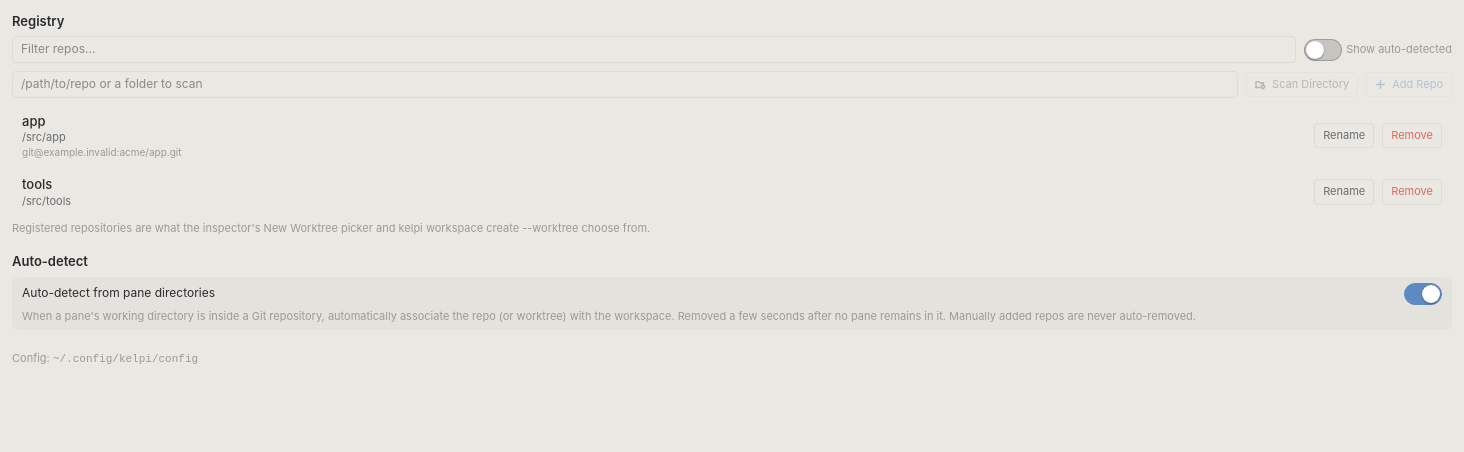
Scenario: the two empty states (§SET-057) › says "No matching repositories" — without the hint — when the filter excluded them
This screenshot has width=1464, height=452.
In the field with test id "repo-filter": (654, 50) [12,36,1296,63], type "zzz"
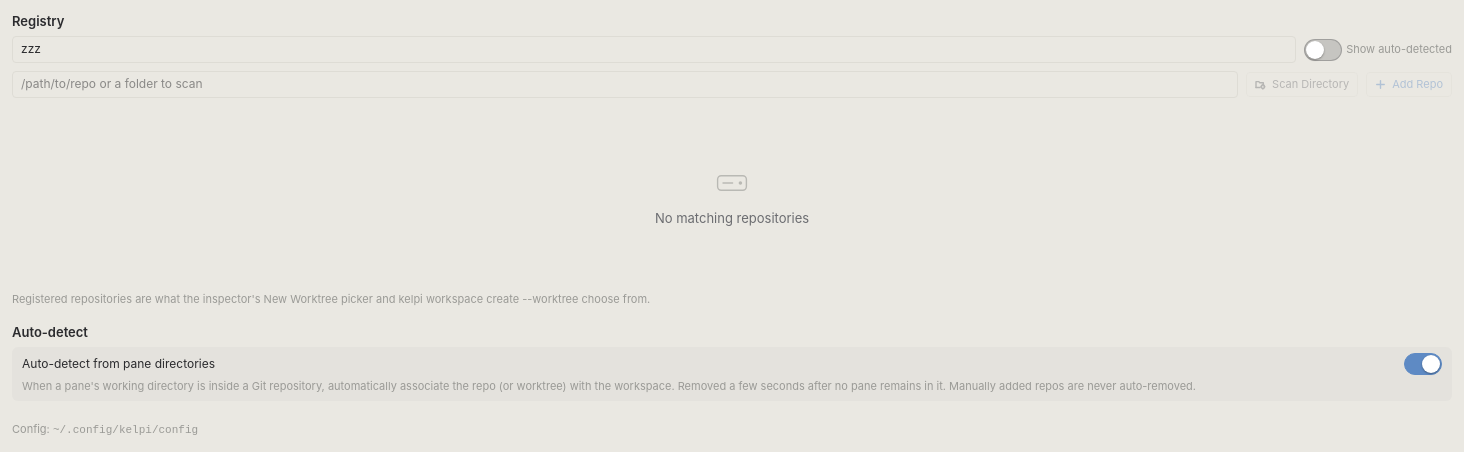
expect the element with test id "repo-empty" does not show "Add Repo": met
expect the element with test id "repo-empty" reads "No matching repositories": met, box [655,210,809,226]
